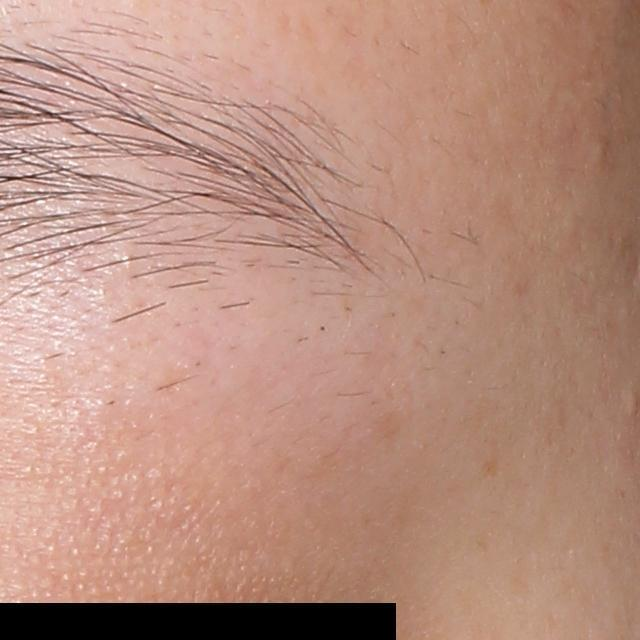comedo: (585, 135, 612, 170)
